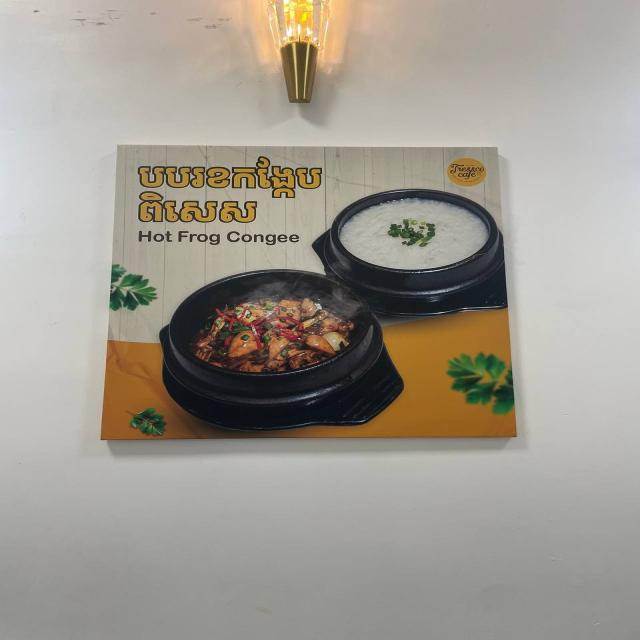Yolov11kh: (131, 147, 328, 204), (127, 188, 265, 231)
